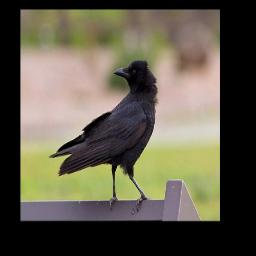Crow: (48, 59, 159, 211)
